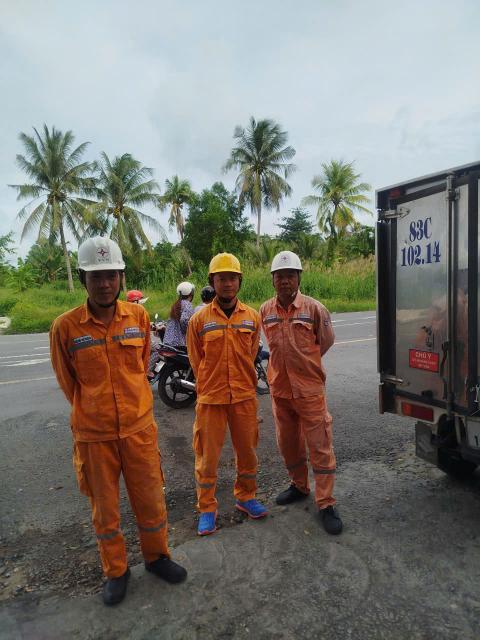helmet: (66, 232, 126, 278), (270, 247, 308, 278), (205, 257, 247, 278)
shoes: (87, 561, 138, 609), (140, 548, 190, 590), (304, 500, 345, 539), (188, 498, 222, 540), (277, 474, 308, 509), (235, 493, 266, 519)
